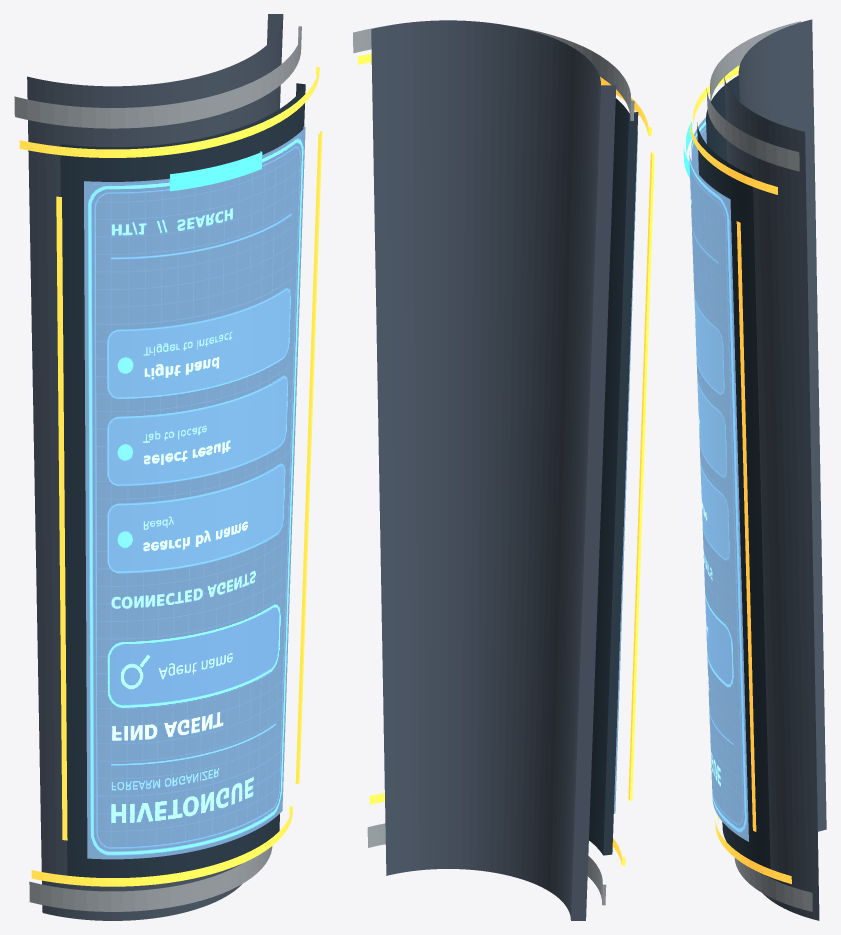
File: organizer.glb
3 views of the same model, side by side, from view 1: azimuth 30°, elevation 25°; view 2: azimuth 150°, elevation 25°; view 3: azimuth 270°, elevation 25° (orthographic). The views are drawn at different scales.
Parts seen in each view (by area): view 1: ScreenGlass, ForearmSleeve_Curved, RecessedBezel, ElbowTrim, WristTrim, LeftAmberRail, RightAmberRail, ElbowAmber, WristAmber, UpperCyanMarker; view 2: ForearmSleeve_Curved, RecessedBezel, LeftAmberRail, ElbowTrim, ScreenGlass, WristTrim; view 3: ForearmSleeve_Curved, ScreenGlass, RecessedBezel, ElbowTrim, RightAmberRail, WristTrim, ElbowAmber, WristAmber.
Boxes of the visible parts, x1=… form: ScreenGlass: x1=84, y1=126, x2=305, y2=859; ForearmSleeve_Curved: x1=27, y1=14, x2=283, y2=920; RecessedBezel: x1=60, y1=83, x2=305, y2=877; ElbowTrim: x1=14, y1=26, x2=301, y2=128; WristTrim: x1=29, y1=846, x2=272, y2=911; LeftAmberRail: x1=56, y1=196, x2=67, y2=840; RightAmberRail: x1=295, y1=131, x2=322, y2=784; ElbowAmber: x1=19, y1=67, x2=319, y2=157; WristAmber: x1=31, y1=806, x2=292, y2=886; UpperCyanMarker: x1=169, y1=151, x2=262, y2=191; ForearmSleeve_Curved: x1=371, y1=20, x2=616, y2=920; RecessedBezel: x1=589, y1=98, x2=638, y2=855; LeftAmberRail: x1=628, y1=152, x2=654, y2=800; ElbowTrim: x1=353, y1=26, x2=634, y2=120; ScreenGlass: x1=614, y1=131, x2=637, y2=813; WristTrim: x1=367, y1=823, x2=606, y2=905; ForearmSleeve_Curved: x1=724, y1=19, x2=826, y2=920; ScreenGlass: x1=689, y1=117, x2=748, y2=841; RecessedBezel: x1=697, y1=75, x2=770, y2=868; ElbowTrim: x1=706, y1=21, x2=800, y2=171; RightAmberRail: x1=736, y1=221, x2=756, y2=831; WristTrim: x1=734, y1=858, x2=812, y2=911; ElbowAmber: x1=689, y1=65, x2=777, y2=194; WristAmber: x1=715, y1=816, x2=791, y2=884.
Size of the model in its own units: 0.0904 by 0.244 by 0.0396.
6 materials, 1 textured.
